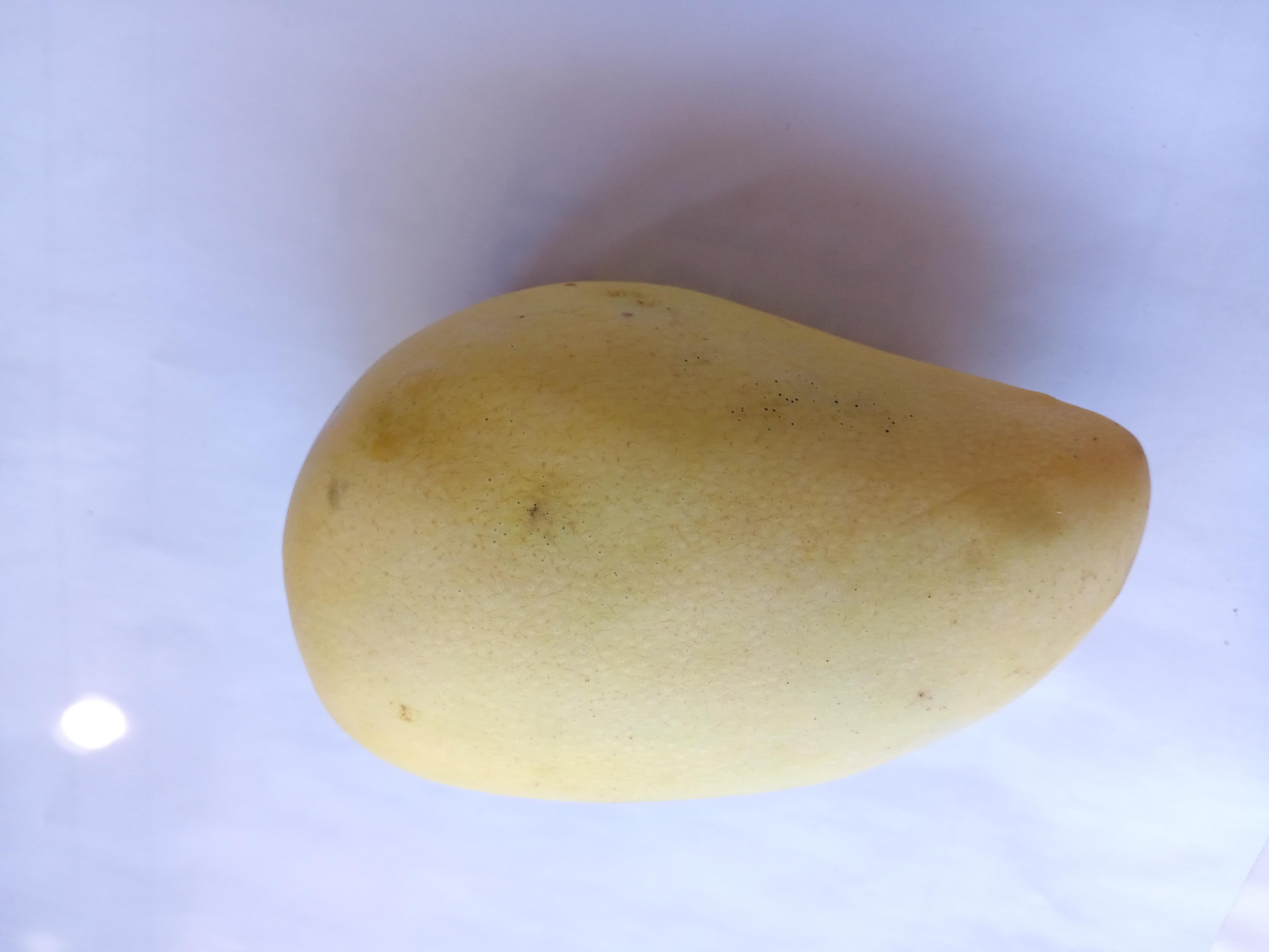Mango Ripe: (221, 229, 1190, 829)
